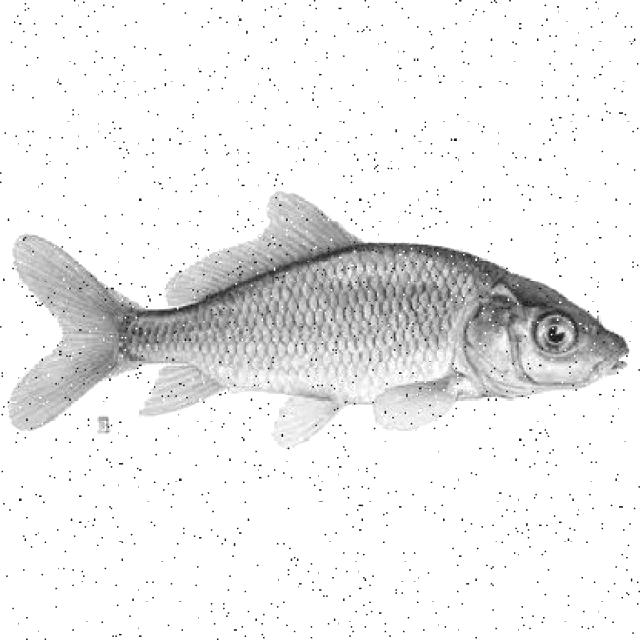ikan-mas: (9, 187, 628, 441)
